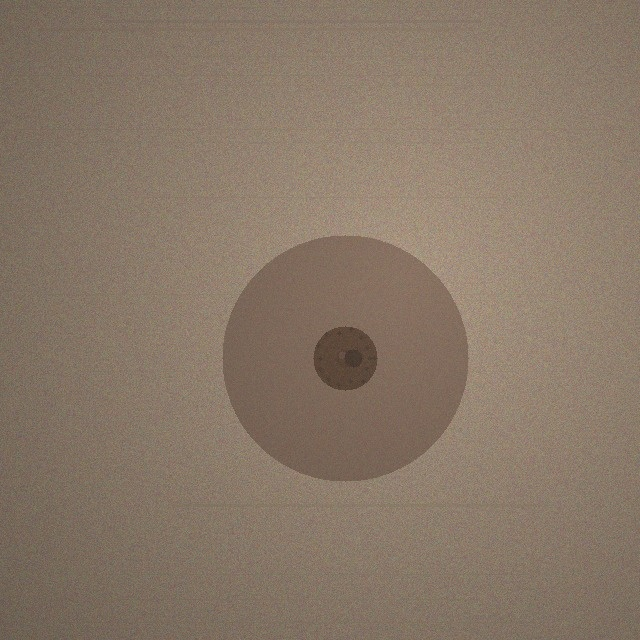cold_weld: (222, 235, 468, 481)
